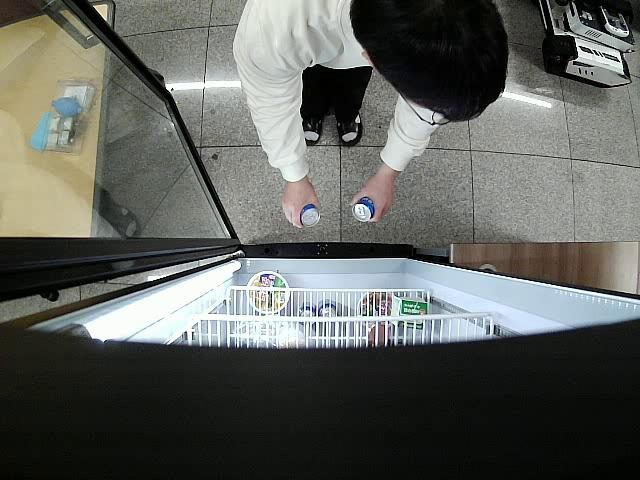00_hand: (349, 169, 395, 224), (281, 181, 321, 229)
15_letsbe: (352, 199, 376, 224), (301, 205, 321, 229)
